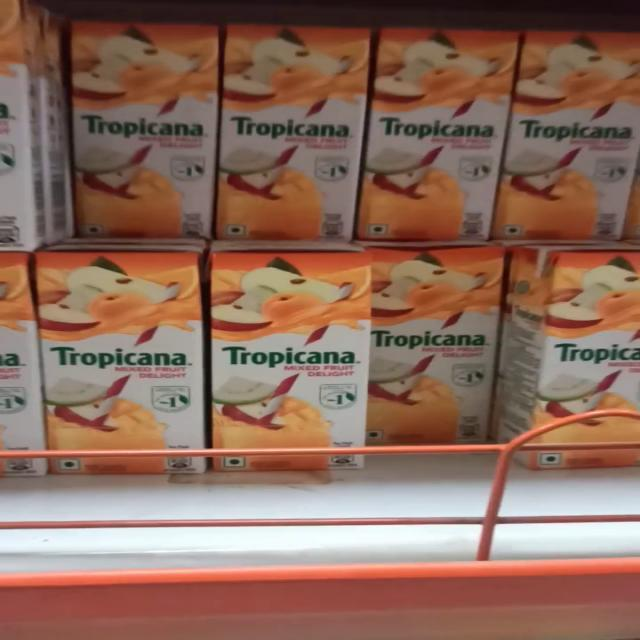Tropicana: (28, 238, 209, 491), (222, 239, 386, 486), (61, 16, 223, 236), (218, 20, 376, 242), (372, 26, 510, 242)
